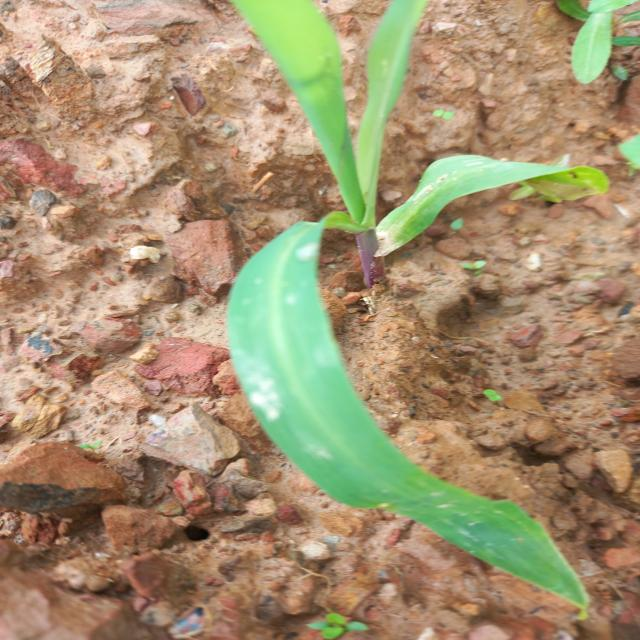maize: (100, 0, 627, 598)
weed: (540, 0, 640, 79)
